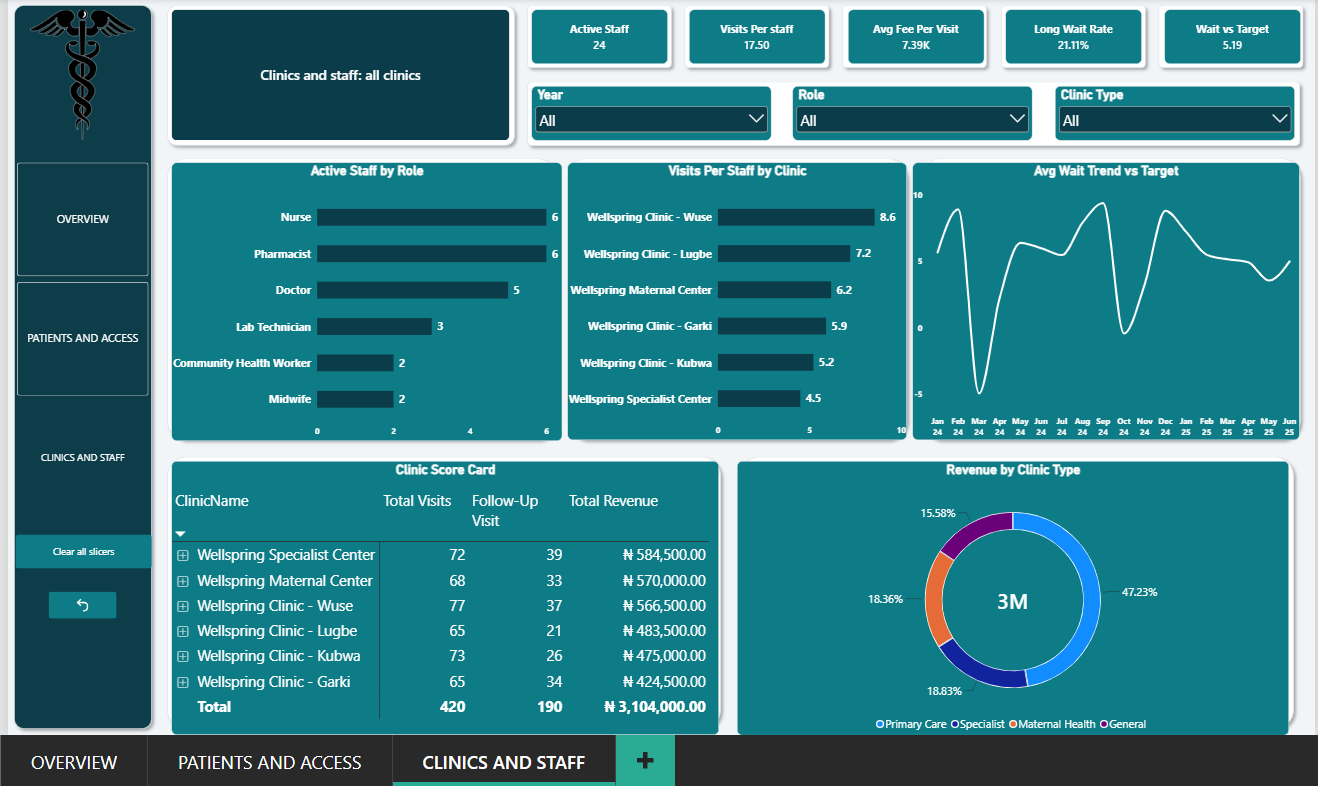

The dashboard page shown, as its layout file describes it:
{"tool":"powerbi","page":{"name":"CLINICS AND STAFF","canvas":[1920,1080],"ordinal":2},"visuals":[{"type":"shape","box":[752,112,1152,112],"z":0},{"type":"shape","box":[1216,0,230,110],"z":1000},{"type":"shape","box":[1680,0,230,110],"z":2000},{"type":"shape","box":[984,0,230,110],"z":3000},{"type":"shape","box":[224,0,528,224],"z":4000},{"type":"shape","box":[0,0,220,1080],"z":5000},{"type":"shape","box":[1448,0,230,110],"z":6000},{"type":"shape","box":[752,0,230,110],"z":7000},{"type":"shape","box":[224.3,224.3,588.9,431.4],"z":8000},{"type":"shape","box":[813.3,224.3,515.6,431.4],"z":9000},{"type":"shape","box":[1331,224.3,573.8,431.4],"z":10000},{"type":"shape","box":[223.9,662.3,830.2,417.4],"z":11000},{"type":"cardVisual","fields":{"Data":["All  Measures.Clinics Title"]},"box":[240,16,496,192],"z":12000},{"type":"cardVisual","fields":{"Data":["All  Measures.Active Staff"]},"box":[768,16,200,80],"z":13000},{"type":"cardVisual","fields":{"Data":["All  Measures.Visits Per staff"]},"box":[1000,16,200,80],"z":14000},{"type":"cardVisual","fields":{"Data":["All  Measures.Avg Fee Per Visit"]},"box":[1232,16,200,80],"z":15000},{"type":"cardVisual","fields":{"Data":["All  Measures.Long Wait Rate"]},"box":[1464,16,200,80],"z":16000},{"type":"cardVisual","fields":{"Data":["All  Measures.Wait vs Target"]},"box":[1696,16,200,80],"z":17000},{"type":"slicer","fields":{"Values":["staff.Role"]},"box":[1152,128,352,80],"z":18000},{"type":"slicer","fields":{"Values":["clinics.ClinicType"]},"box":[1536,128,352,80],"z":19000},{"type":"slicer","fields":{"Values":["Calendar.Year"]},"box":[768,128,352,80],"z":20000},{"type":"barChart","title":"Active Staff by Role","fields":{"Category":["staff.Role"],"Y":["All  Measures.Staff Count"]},"box":[239.4,239.4,573.4,408.5],"z":21000},{"type":"barChart","title":"Visits Per Staff by Clinic","fields":{"Category":["clinics.ClinicName"],"Y":["All  Measures.Visits Per staff"]},"box":[821.3,240.4,497.9,407.4],"z":22000},{"type":"lineChart","title":"Avg Wait Trend vs Target","fields":{"Category":["Calendar.MonthYear"],"Y":["All  Measures.Wait vs Target"]},"box":[1327.3,239.9,567.9,407.2],"z":23000},{"type":"pivotTable","title":"Clinic Score Card","fields":{"Values":["All  Measures.Total Visits","All  Measures.Follow-Up Visit","All  Measures.Total Revenue"],"Rows":["clinics.ClinicName","visits.Department"]},"box":[240.4,677.7,803.2,402.1],"z":24000},{"type":"shape","box":[1065.7,662.3,830.2,417.4],"z":25000},{"type":"donutChart","title":"Revenue by Clinic Type","fields":{"Y":["All  Measures.Total Revenue"],"Category":["clinics.ClinicType"]},"box":[1069.8,677.9,810,402.8],"z":26000},{"type":"image","box":[11.5,15.4,196.2,192.3],"z":27000},{"type":"actionButton","box":[11,785.8,200,50],"z":28000},{"type":"actionButton","box":[59.4,869.4,100,40],"z":29000},{"type":"pageNavigator","box":[13.2,239.9,193.7,517.3],"z":30000}]}

Visuals, with their boxes on the page's 1920x1080 design canvas (x1, y1, x2, y2). These are canvas units, not pixel positions in the 1318x786 screenshot, which may show the page scaled, cropped or inside an application window:
shape: [752,112,1904,224]
shape: [1216,0,1446,110]
shape: [1680,0,1910,110]
shape: [984,0,1214,110]
shape: [224,0,752,224]
shape: [0,0,220,1080]
shape: [1448,0,1678,110]
shape: [752,0,982,110]
shape: [224,224,813,656]
shape: [813,224,1329,656]
shape: [1331,224,1905,656]
shape: [224,662,1054,1080]
cardVisual - All  Measures.Clinics Title: [240,16,736,208]
cardVisual - All  Measures.Active Staff: [768,16,968,96]
cardVisual - All  Measures.Visits Per staff: [1000,16,1200,96]
cardVisual - All  Measures.Avg Fee Per Visit: [1232,16,1432,96]
cardVisual - All  Measures.Long Wait Rate: [1464,16,1664,96]
cardVisual - All  Measures.Wait vs Target: [1696,16,1896,96]
slicer - staff.Role: [1152,128,1504,208]
slicer - clinics.ClinicType: [1536,128,1888,208]
slicer - Calendar.Year: [768,128,1120,208]
"Active Staff by Role" barChart: [239,239,813,648]
"Visits Per Staff by Clinic" barChart: [821,240,1319,648]
"Avg Wait Trend vs Target" lineChart: [1327,240,1895,647]
"Clinic Score Card" pivotTable: [240,678,1044,1080]
shape: [1066,662,1896,1080]
"Revenue by Clinic Type" donutChart: [1070,678,1880,1081]
image: [12,15,208,208]
actionButton: [11,786,211,836]
actionButton: [59,869,159,909]
pageNavigator: [13,240,207,757]
